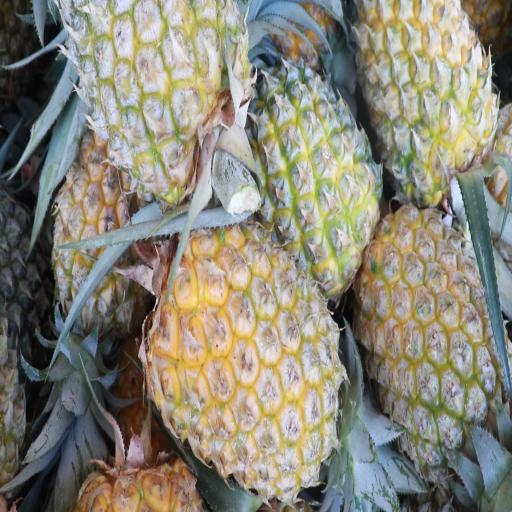------------------------------: (70, 0, 251, 196), (56, 145, 151, 334)
Pineapple - v8 v1: (160, 226, 344, 480), (370, 209, 498, 452), (250, 74, 378, 275), (363, 0, 486, 183)
